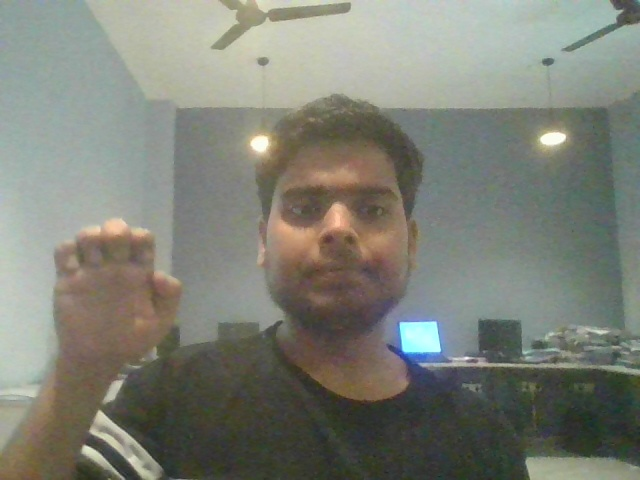C: (45, 199, 195, 391)
